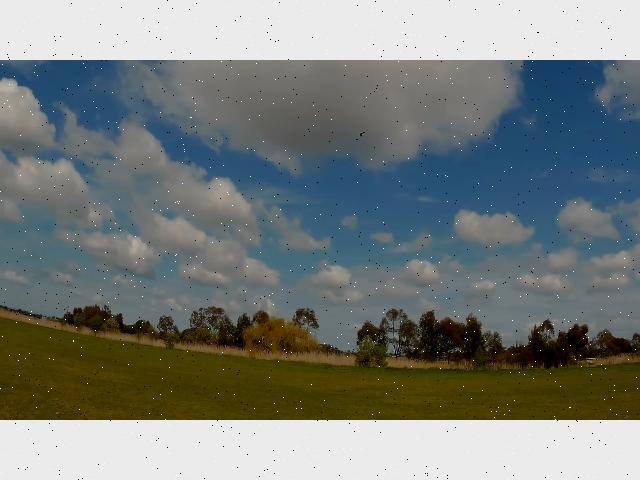Anti-Drone: (350, 122, 376, 146)
